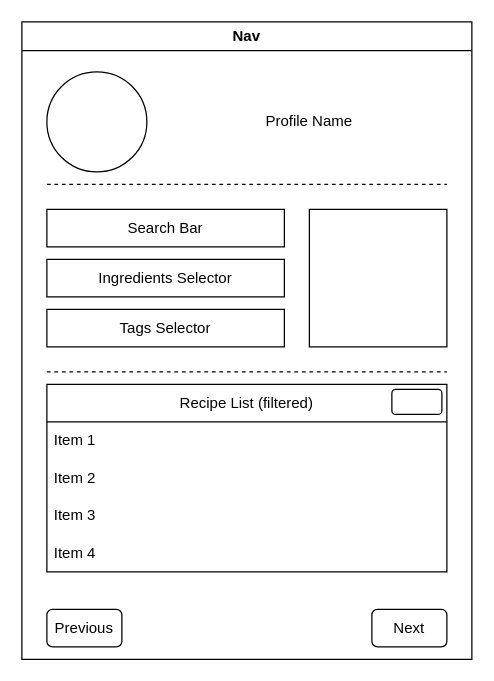
The diagram is 494 pixels wide and 681 high, and some of its shapes have lost their labels. The shapes that lost their labels are listed below. From the top down, each one's centre as x and y in pixels, then its label:
At (x=96, y=121): "Foto\Avatar".
At (x=377, y=277): "Top 10 Tags".
At (x=416, y=401): "Share".
